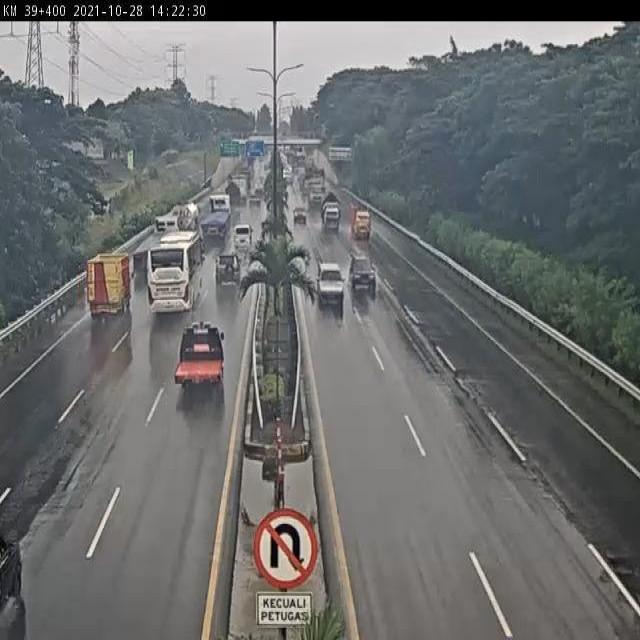big bus: (147, 231, 208, 316)
car: (175, 323, 225, 385), (316, 260, 344, 305), (212, 250, 241, 290), (349, 253, 377, 292), (234, 223, 254, 249), (292, 202, 308, 222)
small truck: (87, 252, 133, 319)
truck-m-: (171, 201, 203, 235), (321, 191, 342, 232)
truck-s-: (348, 199, 372, 240)
truck-xl-: (133, 215, 179, 273), (200, 194, 232, 242)
